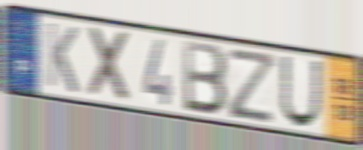4: (142, 37, 173, 107)
B: (181, 38, 229, 119)
K: (44, 19, 80, 97)
U: (279, 53, 324, 130)
X: (87, 23, 133, 105)
Z: (227, 45, 279, 127)
